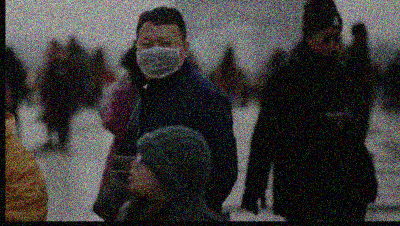with_mask: (133, 35, 183, 79)
without_mask: (126, 154, 155, 198), (310, 29, 342, 58)
